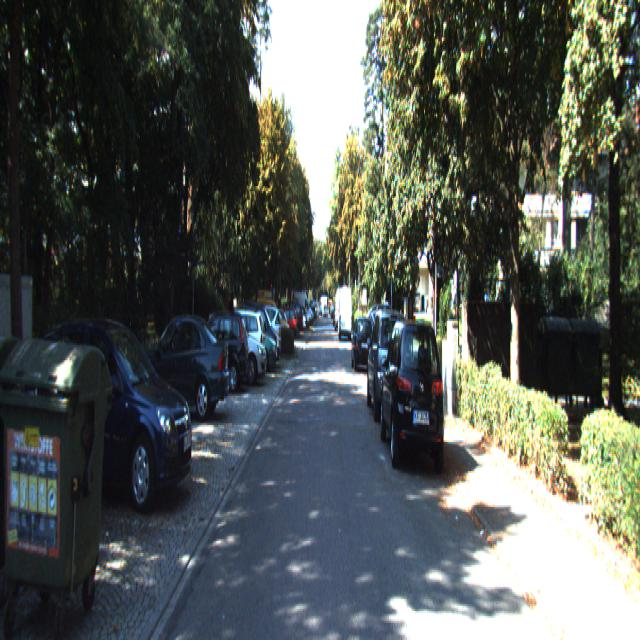Car: (33, 312, 194, 511), (130, 314, 230, 423), (381, 318, 446, 470), (183, 308, 250, 392), (367, 305, 412, 424), (198, 311, 266, 389), (205, 306, 266, 378), (231, 310, 277, 376), (351, 315, 375, 373), (338, 285, 352, 336)
